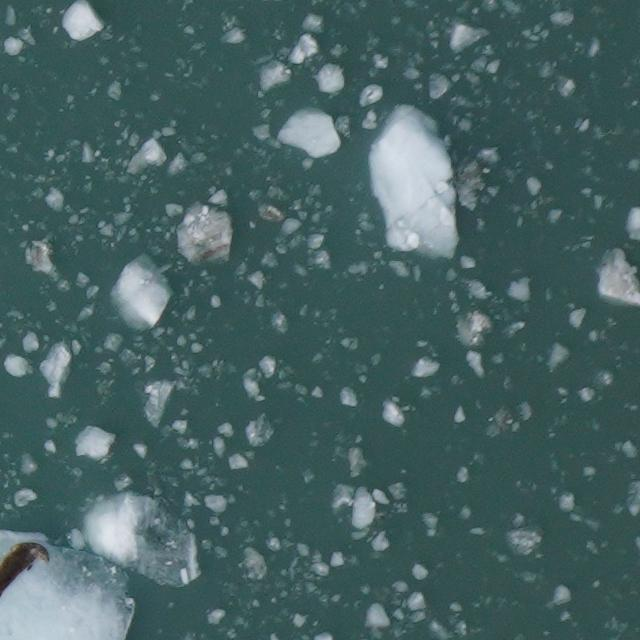seal: (0, 538, 56, 606)
